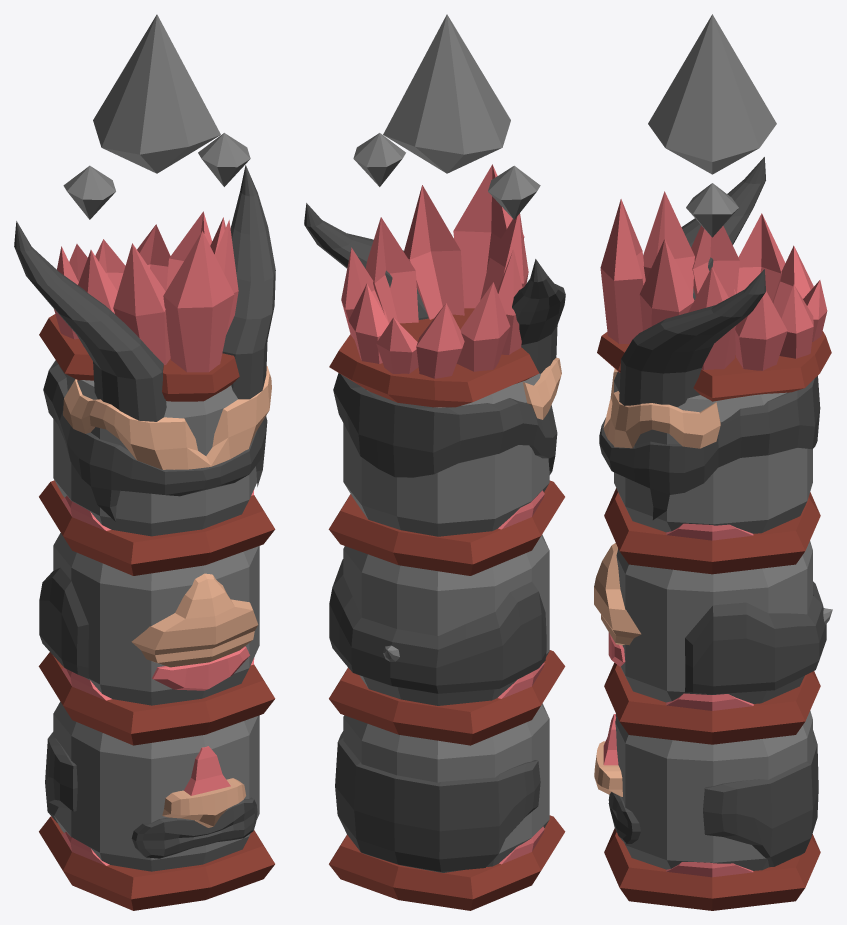
File: Totem_Curse.fbx
The picture shows the model from 3 angles, left to right: view 1: azimuth 30°, elevation 25°; view 2: azimuth 150°, elevation 25°; view 3: azimuth 270°, elevation 25°; orthographic projection.
Parts seen in each view (by area): view 1: Cube.001, Cylinder.001, Cube, Cube.020, Cube.009, Cube.008, Cube.006, Cube.011, Cube.004, Cube.012, Cube.002, Cube.014 (+15 smaller); view 2: Cube.026, Cube.005, Cube.009, Cube.011, Cube, Cube.020, Cube.001, Cube.008, Cube.006, Cube.004, Cube.013, Cube.015 (+8 smaller); view 3: Cube.001, Cube, Cube.009, Cube.020, Cube.005, Cube.011, Cylinder.001, Cube.026, Cube.008, Cube.006, Cube.004, Cube.017 (+15 smaller).
Boxes of the visible parts, left/top/right/bottom form: Cube.001: left=53, top=701, right=259, bottom=871; Cylinder.001: left=14, top=165, right=275, bottom=421; Cube: left=53, top=533, right=259, bottom=705; Cube.020: left=93, top=14, right=220, bottom=173; Cube.009: left=53, top=366, right=256, bottom=536; Cube.008: left=39, top=480, right=275, bottom=575; Cube.006: left=38, top=652, right=275, bottom=745; Cube.011: left=43, top=360, right=267, bottom=521; Cube.004: left=39, top=816, right=274, bottom=910; Cube.012: left=63, top=366, right=271, bottom=469; Cube.002: left=131, top=573, right=258, bottom=667; Cube.014: left=163, top=231, right=234, bottom=372; Cube.026: left=335, top=731, right=540, bottom=872; Cube.005: left=329, top=559, right=546, bottom=693; Cube.009: left=343, top=373, right=549, bottom=536; Cube.011: left=333, top=373, right=557, bottom=477; Cube: left=343, top=534, right=549, bottom=705; Cube.020: left=383, top=14, right=510, bottom=173; Cube.001: left=343, top=703, right=549, bottom=866; Cube.008: left=328, top=480, right=564, bottom=575; Cube.006: left=329, top=650, right=565, bottom=745; Cube.004: left=329, top=815, right=565, bottom=910; Cube.013: left=329, top=308, right=539, bottom=407; Cube.015: left=404, top=185, right=528, bottom=319; Cube.001: left=615, top=711, right=812, bottom=870; Cube: left=616, top=541, right=812, bottom=703; Cube.009: left=614, top=371, right=812, bottom=533; Cube.020: left=648, top=14, right=776, bottom=174; Cube.005: left=685, top=581, right=826, bottom=694; Cube.011: left=599, top=376, right=820, bottom=519; Cylinder.001: left=619, top=157, right=765, bottom=407; Cube.026: left=703, top=730, right=818, bottom=867; Cube.008: left=604, top=488, right=820, bottom=574; Cube.006: left=604, top=662, right=820, bottom=744; Cube.004: left=604, top=828, right=820, bottom=910; Cube.017: left=734, top=213, right=787, bottom=370.
Bounding box in the file's own units: 73.6 × 249 × 63.14.
